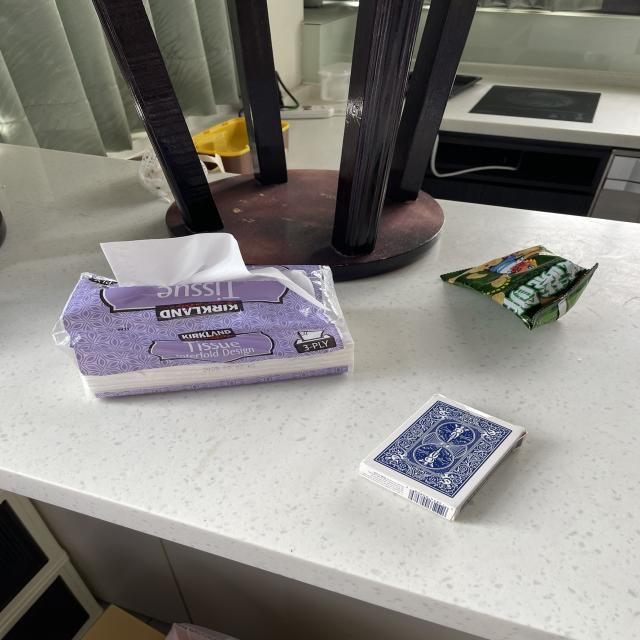tissue: (48, 229, 358, 404)
